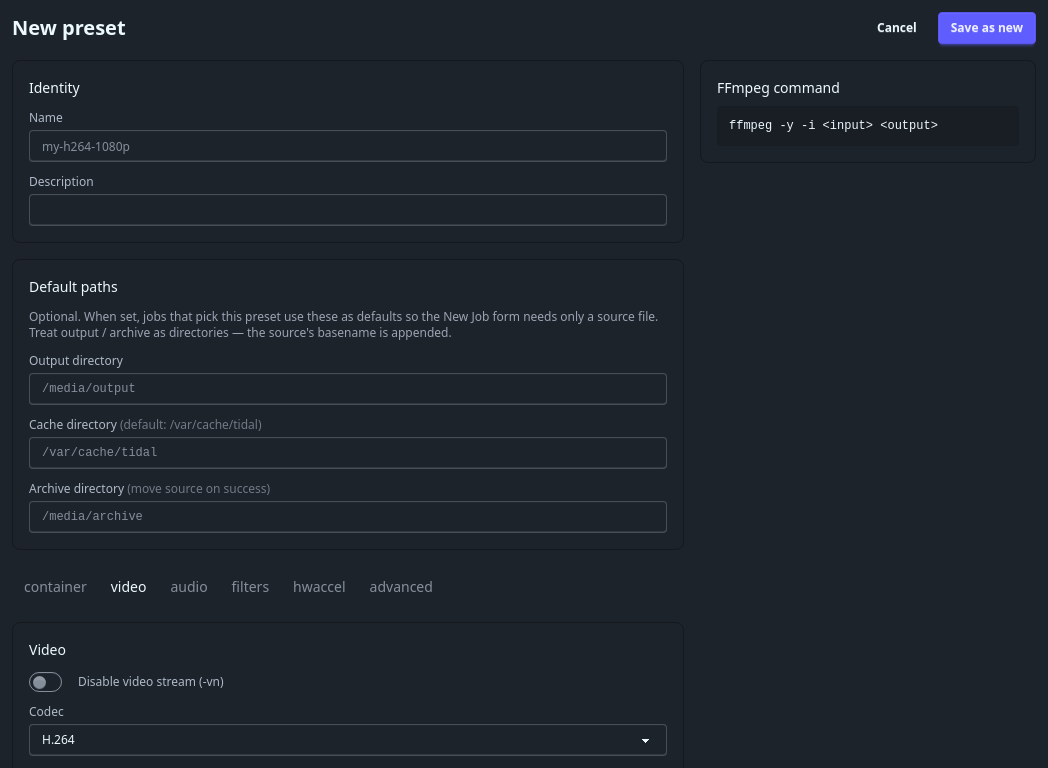
Test: PresetEditorView › switching tab reveals different section
Step 1. Click the tab "audio" → {"x": 189, "y": 586}, box 158,566 -> 220,606
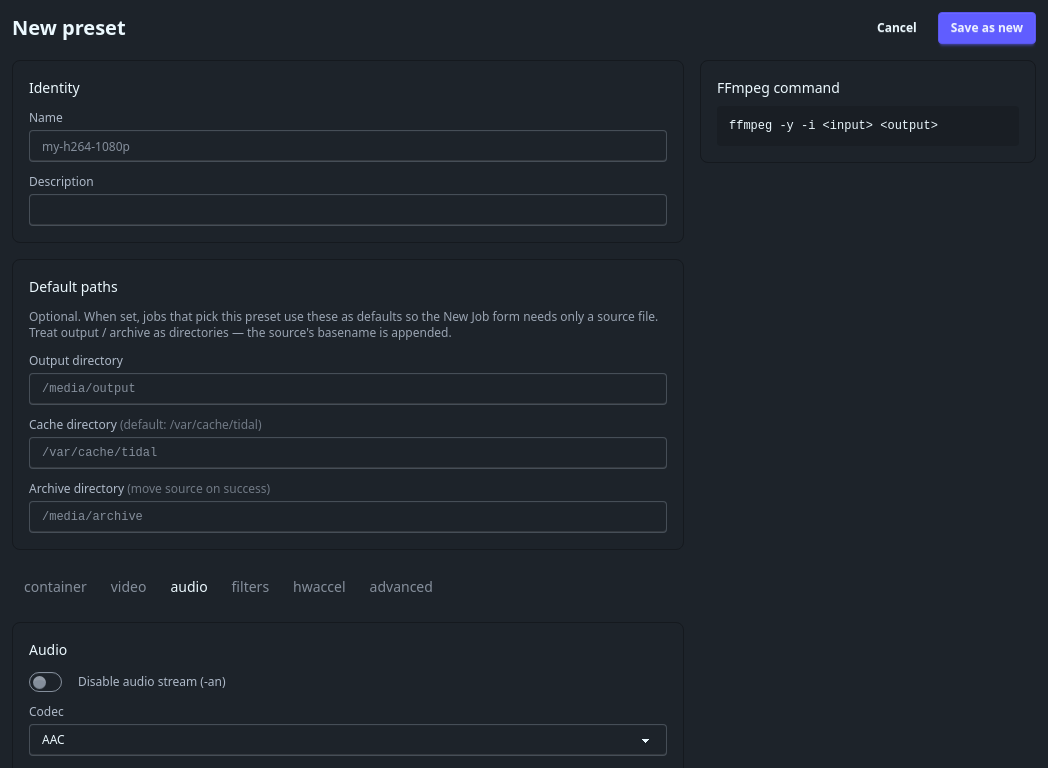
expect the text "Disable audio stream" is shown: met, box 78,673 -> 226,690
